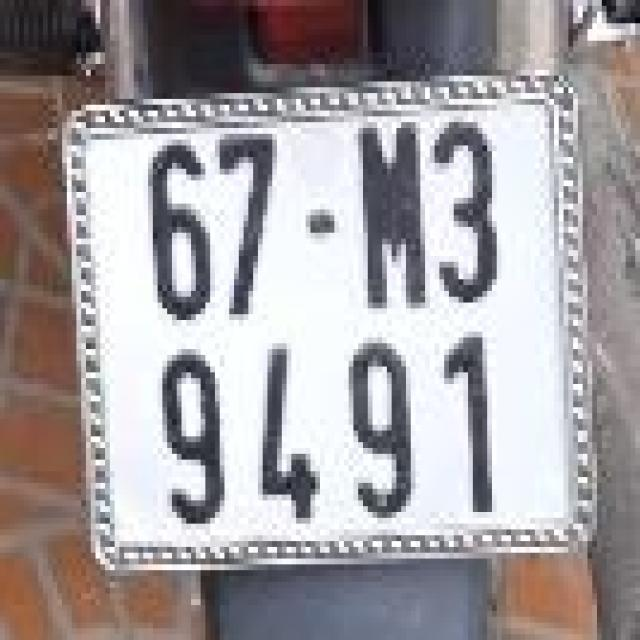1: (437, 323, 499, 521)
3: (430, 111, 511, 314)
4: (239, 326, 320, 529)
6: (136, 134, 217, 326)
7: (222, 125, 289, 317)
9: (150, 337, 227, 547), (344, 334, 420, 520)
M: (344, 108, 430, 317)
